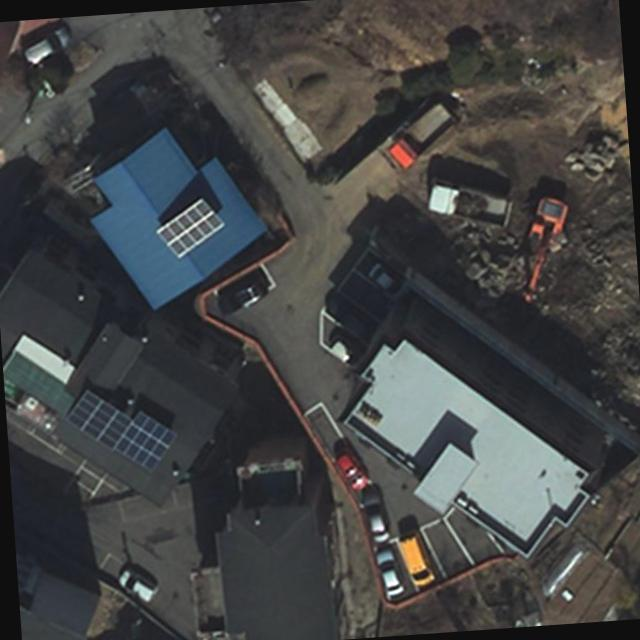solar: (152, 194, 226, 264), (62, 383, 136, 453), (110, 404, 180, 476)
